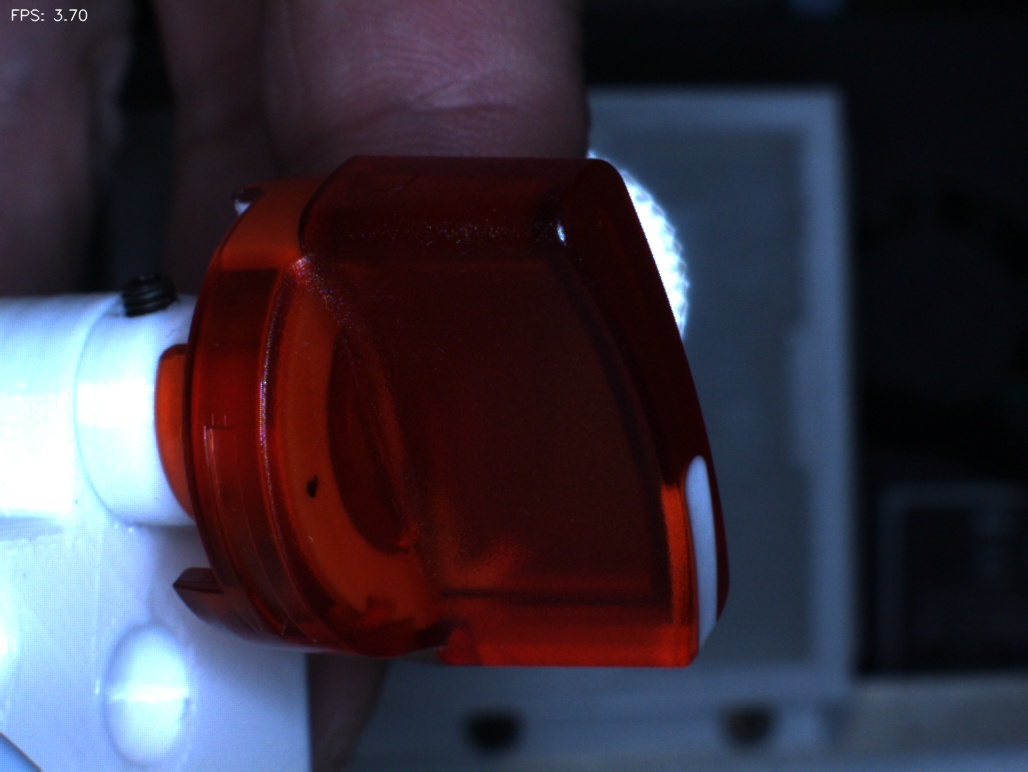PointNoir: (272, 452, 349, 530)
